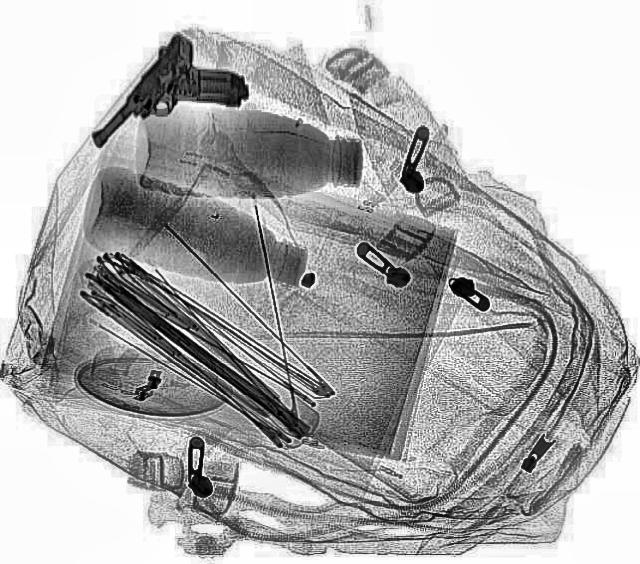Gun: (79, 30, 261, 186)
